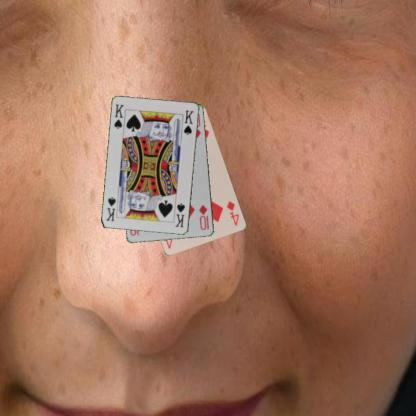10d: (196, 202, 210, 231)
4d: (224, 198, 240, 227)
Ks: (172, 200, 186, 229), (111, 102, 125, 130)
